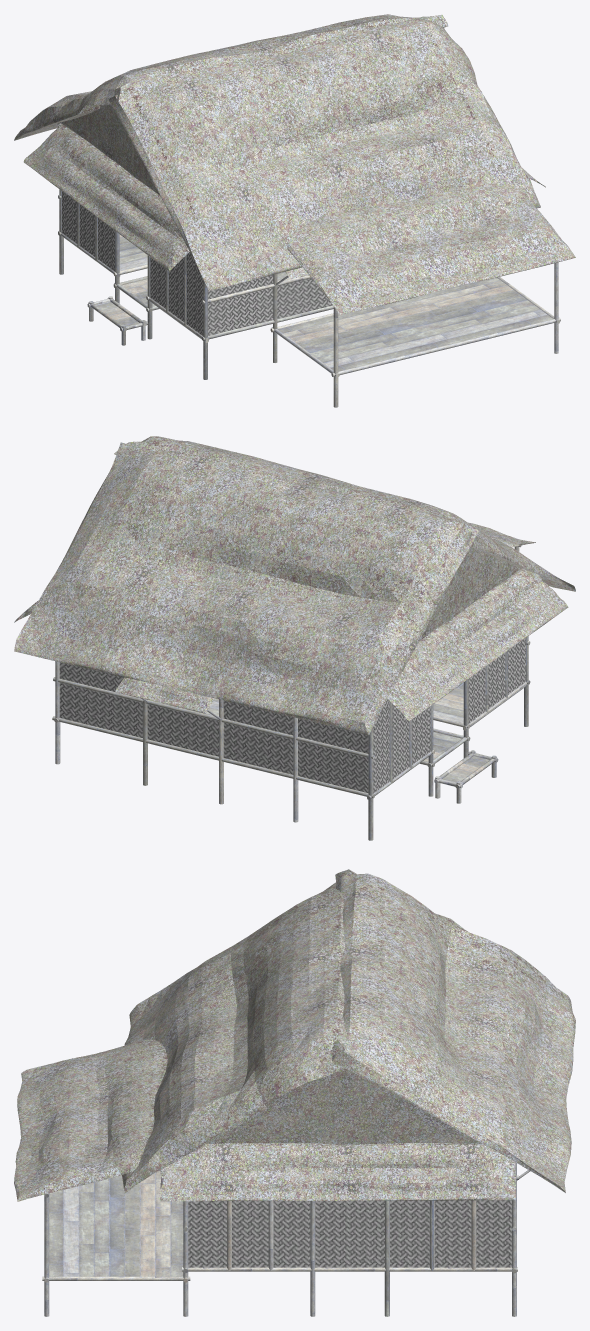
The picture shows the model from 3 angles, top to bottom: view 1: azimuth 30°, elevation 25°; view 2: azimuth 150°, elevation 25°; view 3: azimuth 270°, elevation 25°; orthographic projection. The views are drawn at different scales.
Visible parts, largest first — view 1: 2; view 2: 2; view 3: 2.
Boxes of the visible parts, bbox=[...] form: 2: bbox=[14, 14, 575, 407]; 2: bbox=[14, 436, 575, 840]; 2: bbox=[14, 869, 575, 1316].
Bounding box in the file's own units: 31.76 × 20.48 × 36.67.
Materials: 5 (5 with a texture image).
